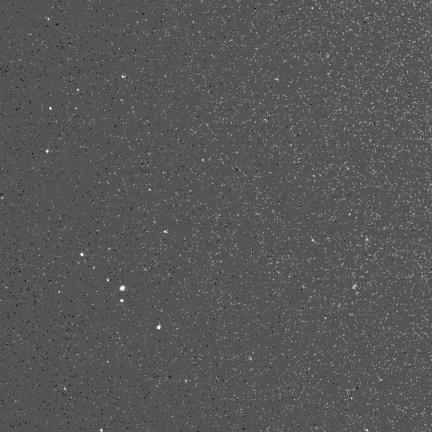blob: (120, 286, 125, 291), (164, 230, 168, 234), (46, 150, 50, 154), (49, 107, 53, 111), (157, 325, 161, 329), (107, 278, 110, 282), (80, 252, 83, 256), (120, 299, 124, 302), (77, 89, 80, 92), (122, 76, 125, 79)
